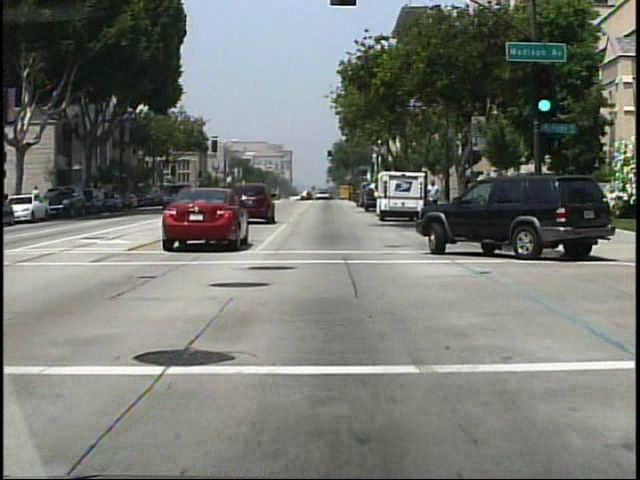person: (424, 180, 442, 221), (352, 185, 366, 212), (33, 185, 44, 211)
